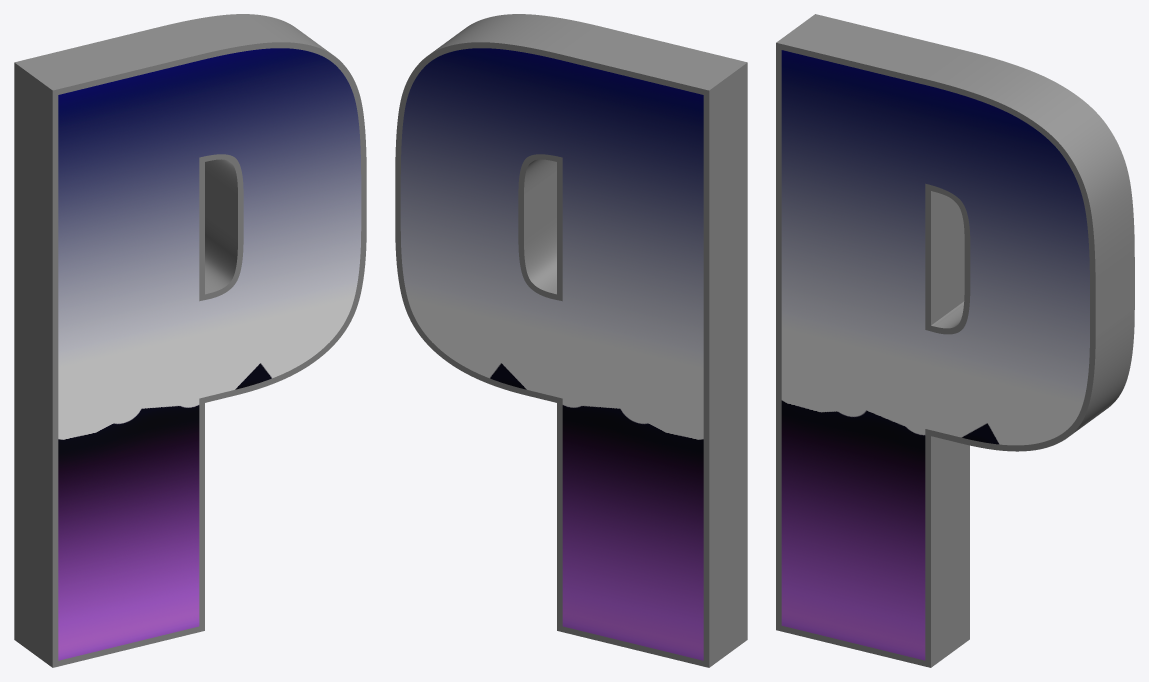
The picture shows the model from 3 angles, left to right: view 1: azimuth 30°, elevation 25°; view 2: azimuth 150°, elevation 25°; view 3: azimuth 330°, elevation 25°; orthographic projection.
Parts seen in each view (by area): view 1: P, P_outline; view 2: P, P_outline; view 3: P, P_outline.
Boxes of the visible parts, x1,y1,x2,y2 form: P: (58, 48, 361, 660); P_outline: (14, 14, 366, 667); P: (400, 48, 703, 660); P_outline: (395, 14, 747, 667); P: (781, 50, 1089, 660); P_outline: (776, 14, 1134, 667).
Bounding box in the file's own units: 56.45 × 99.2 × 12.
Materials: 2 (1 with a texture image).
